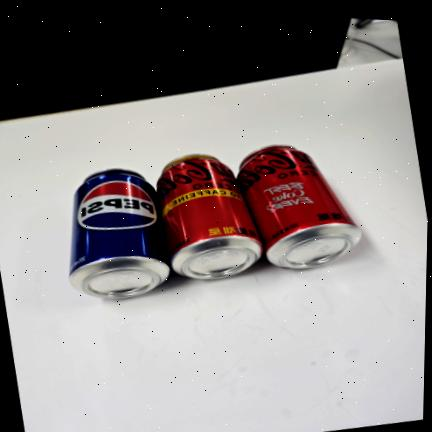can_coke_decaf: (156, 153, 261, 281)
can_coke_zero: (236, 145, 361, 269)
can_pepsi: (69, 168, 168, 299)
